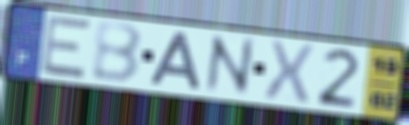2: (317, 46, 363, 111)
A: (147, 30, 204, 92)
B: (90, 21, 145, 86)
E: (38, 13, 94, 81)
N: (203, 32, 256, 97)
X: (261, 37, 317, 106)
